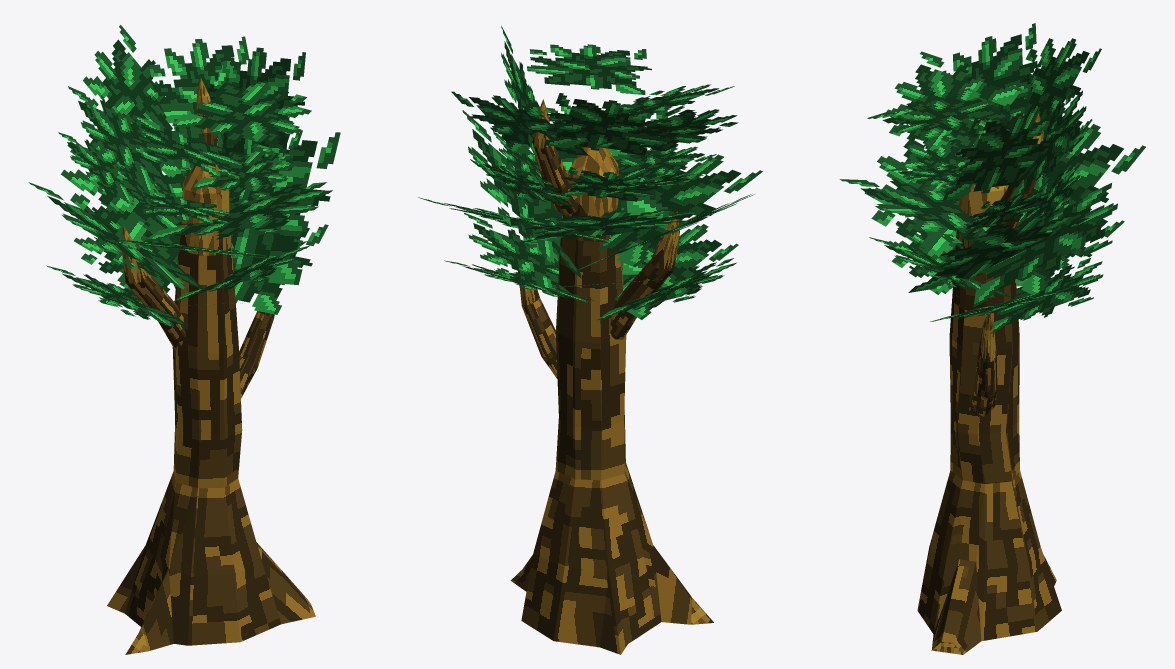
File: Tree.FBX
3 renders of one model, left to right at view 1: azimuth 30°, elevation 25°; view 2: azimuth 150°, elevation 25°; view 3: azimuth 270°, elevation 25°, orthographic. The views are drawn at different scales.
Parts seen in each view (by area): view 1: Tree; view 2: Tree; view 3: Tree.
Part boxes in pixels (x1=…): Tree: x1=28, y1=25, x2=340, y2=654; Tree: x1=418, y1=26, x2=762, y2=654; Tree: x1=839, y1=23, x2=1145, y2=654.
Size of the model in its own units: 49.31 by 90.68 by 49.72.
